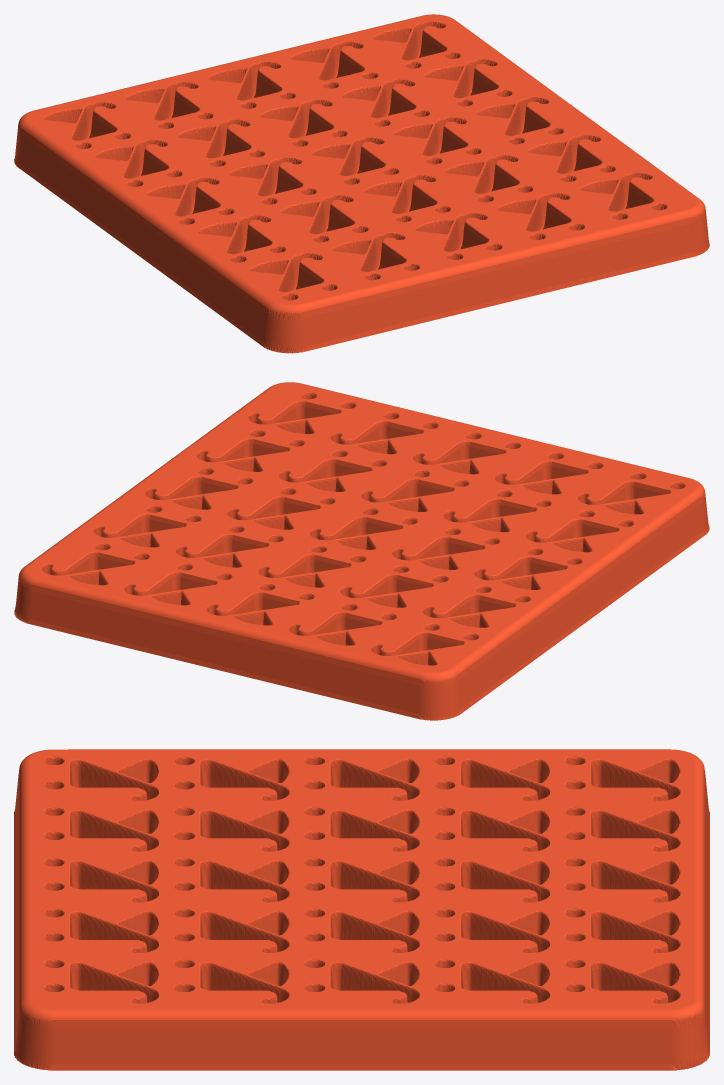
File: mold.glb
The picture shows the model from 3 angles, top to bottom: view 1: azimuth 30°, elevation 25°; view 2: azimuth 150°, elevation 25°; view 3: azimuth 270°, elevation 25°; orthographic projection. The views are drawn at different scales.
Visible parts, largest first — view 1: geometry_0; view 2: geometry_0; view 3: geometry_0.
Boxes of the visible parts, x1,y1,x2,y2 form: geometry_0: (14, 14, 709, 353); geometry_0: (14, 382, 709, 720); geometry_0: (14, 749, 709, 1070).
Size of the model in its own units: 0.1467 by 0.0136 by 0.1584.
